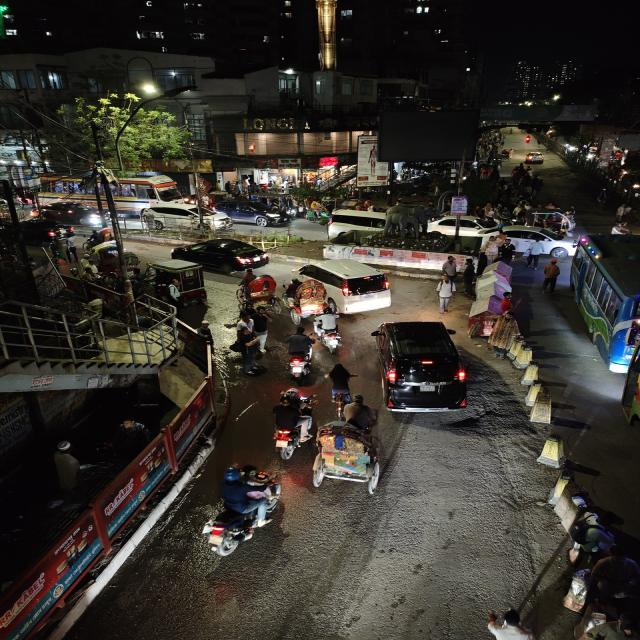bicycle: (484, 310, 520, 362)
bus: (571, 232, 640, 374), (115, 175, 180, 206)
car: (290, 258, 394, 314), (166, 237, 273, 274), (140, 203, 231, 233), (491, 224, 574, 252), (424, 213, 506, 237), (224, 199, 287, 229), (323, 211, 388, 240), (27, 221, 75, 242), (523, 150, 546, 164)
cng: (370, 318, 468, 419)
motorcycle: (200, 463, 286, 561), (264, 390, 316, 458), (225, 326, 266, 377), (282, 328, 316, 382), (310, 306, 346, 354), (522, 134, 534, 146)
pedestrian: (45, 438, 84, 498), (326, 360, 355, 410), (432, 276, 462, 312), (538, 258, 562, 294), (460, 258, 481, 298), (437, 255, 464, 282), (495, 238, 518, 266), (523, 240, 542, 269), (614, 202, 632, 222), (596, 188, 610, 208)
rickshaw: (307, 403, 393, 495), (151, 259, 208, 308), (282, 278, 332, 324), (233, 271, 278, 313)
